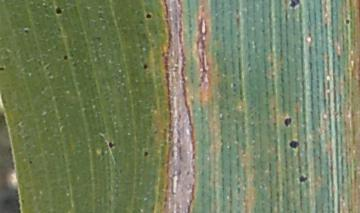tarspot: (289, 139, 300, 149), (53, 6, 63, 16), (283, 116, 292, 127), (298, 173, 309, 182), (289, 1, 300, 9), (23, 27, 31, 35), (142, 149, 150, 157), (145, 11, 153, 19), (27, 158, 34, 166), (62, 54, 69, 62), (108, 140, 115, 148), (141, 64, 149, 70), (1, 65, 6, 73), (345, 17, 350, 25)
